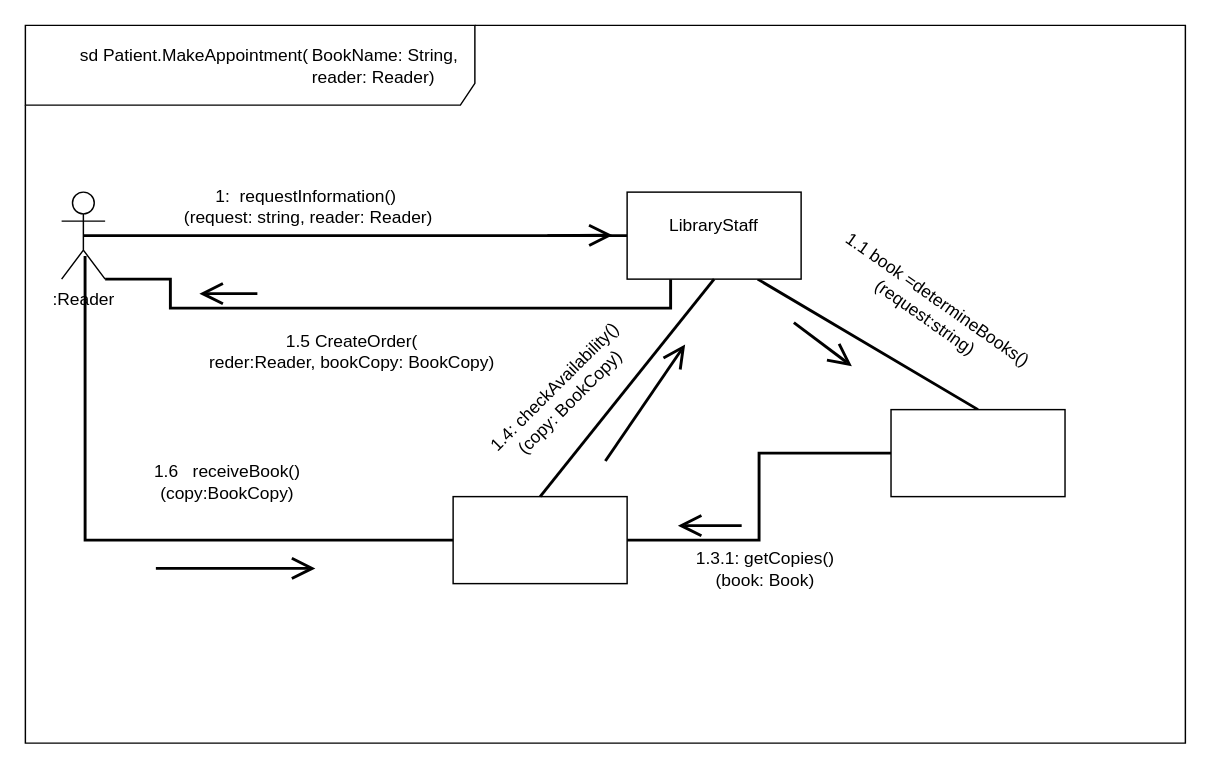
This 1211x769 diagram has some shape labels left out. The centre of each missing label's shape, as x and y in pixels:
"Book" belongs at point 977,452.
"BookCopy" belongs at point 539,539.
